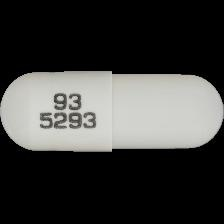0093-5293: (0, 0, 224, 224)
